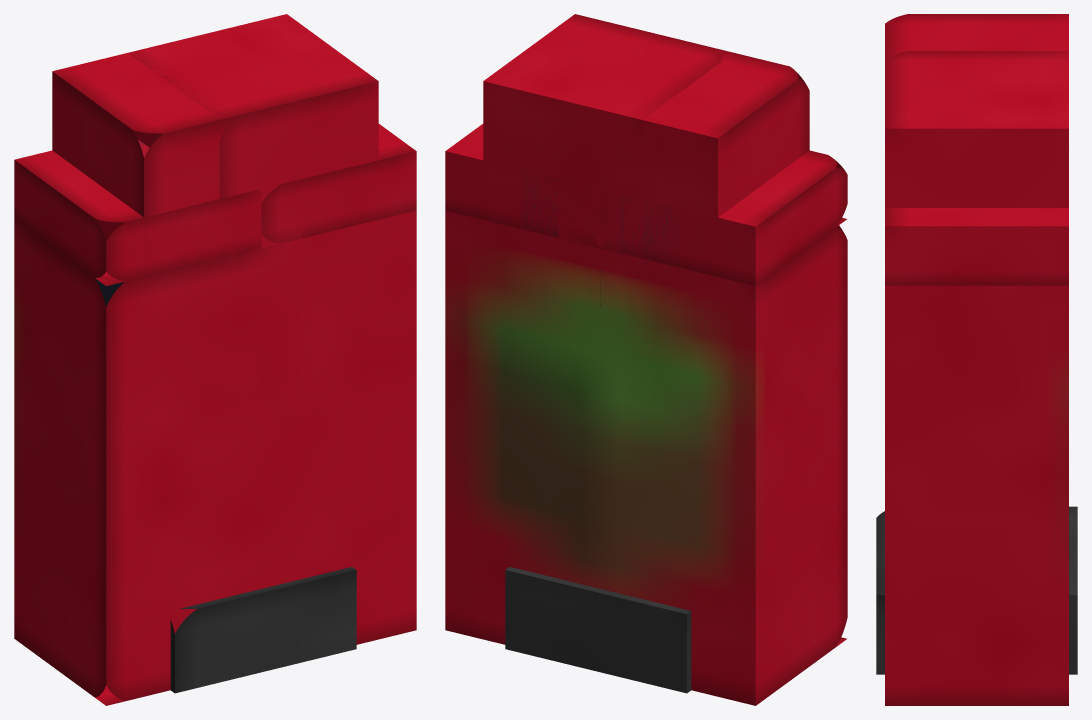
File: casual1.obj
3 views of the same model, side by side, from view 1: azimuth 30°, elevation 25°; view 2: azimuth 150°, elevation 25°; view 3: azimuth 270°, elevation 25° (orthographic).
Visible parts, largest first — view 1: bodyModel0, rightArmModel0, leftArmModel0, bodyModel1, leftBootModel0, bodyModel2; view 2: bodyModel0, rightArmModel0, leftArmModel0, bodyModel1, leftBootModel0, bodyModel2, leftLegModel1; view 3: bodyModel0, leftArmModel0, bodyModel2, rightArmModel0, leftBootModel0.
Boxes of the visible parts, <box> form: bodyModel0: <box>14,210,416,705</box>; rightArmModel0: <box>52,32,302,288</box>; leftArmModel0: <box>128,14,378,277</box>; bodyModel1: <box>14,139,261,286</box>; leftBootModel0: <box>170,567,356,693</box>; bodyModel2: <box>261,124,416,243</box>; bodyModel0: <box>445,210,847,705</box>; rightArmModel0: <box>559,32,809,272</box>; leftArmModel0: <box>483,14,722,275</box>; bodyModel1: <box>601,150,847,286</box>; leftBootModel0: <box>505,567,691,693</box>; bodyModel2: <box>445,124,599,247</box>; leftLegModel1: <box>521,170,679,378</box>; bodyModel0: <box>885,285,1068,705</box>; leftArmModel0: <box>885,51,1068,207</box>; bodyModel2: <box>885,208,1068,285</box>; rightArmModel0: <box>885,14,1068,90</box>; leftBootModel0: <box>876,506,1077,674</box>.
Bounding box in the file's own units: 8.2 × 14.1 × 4.6.
